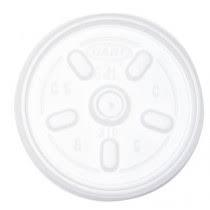Liquid: (19, 13, 210, 201)
